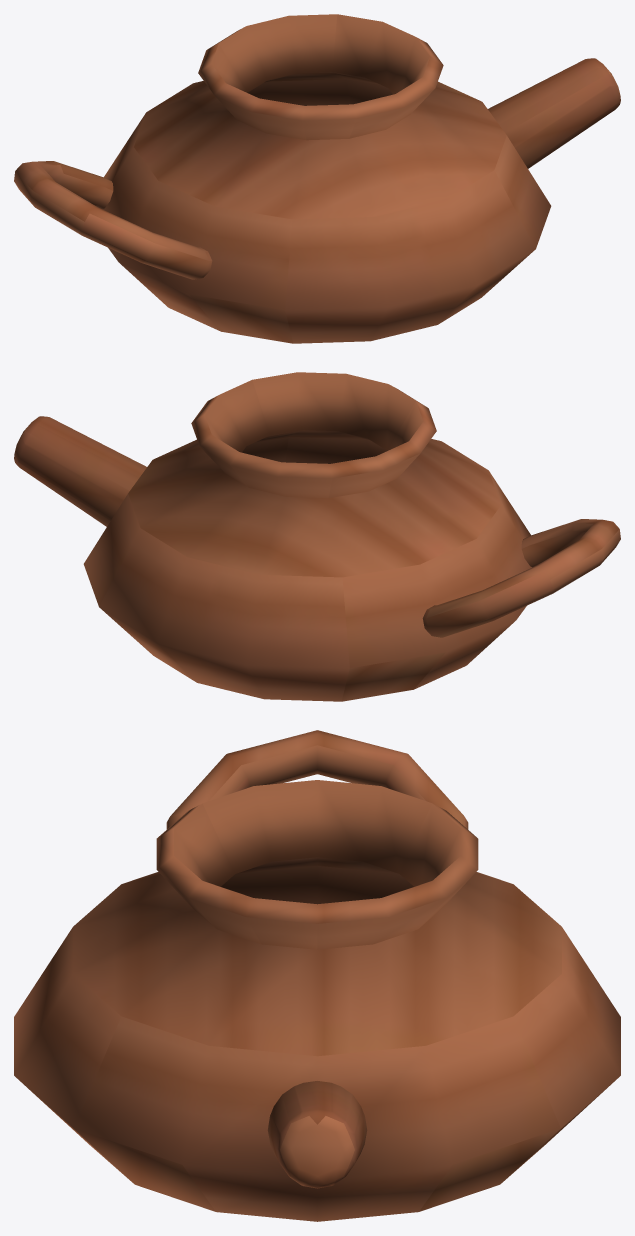
Rendered from p_oillamp.glb.
The picture shows the model from 3 angles, top to bottom: view 1: azimuth 30°, elevation 25°; view 2: azimuth 150°, elevation 25°; view 3: azimuth 270°, elevation 25°; orthographic projection. The views are drawn at different scales.
Visible parts, largest first — view 1: oillamp; view 2: oillamp; view 3: oillamp.
Boxes of the visible parts, x1,y1,x2,y2 form: oillamp: (14,14,620,343); oillamp: (14,372,620,701); oillamp: (14,730,620,1221).
Size of the model in its own units: 0.2968 by 0.1144 by 0.1997.
Materials: 1 (1 with a texture image).
